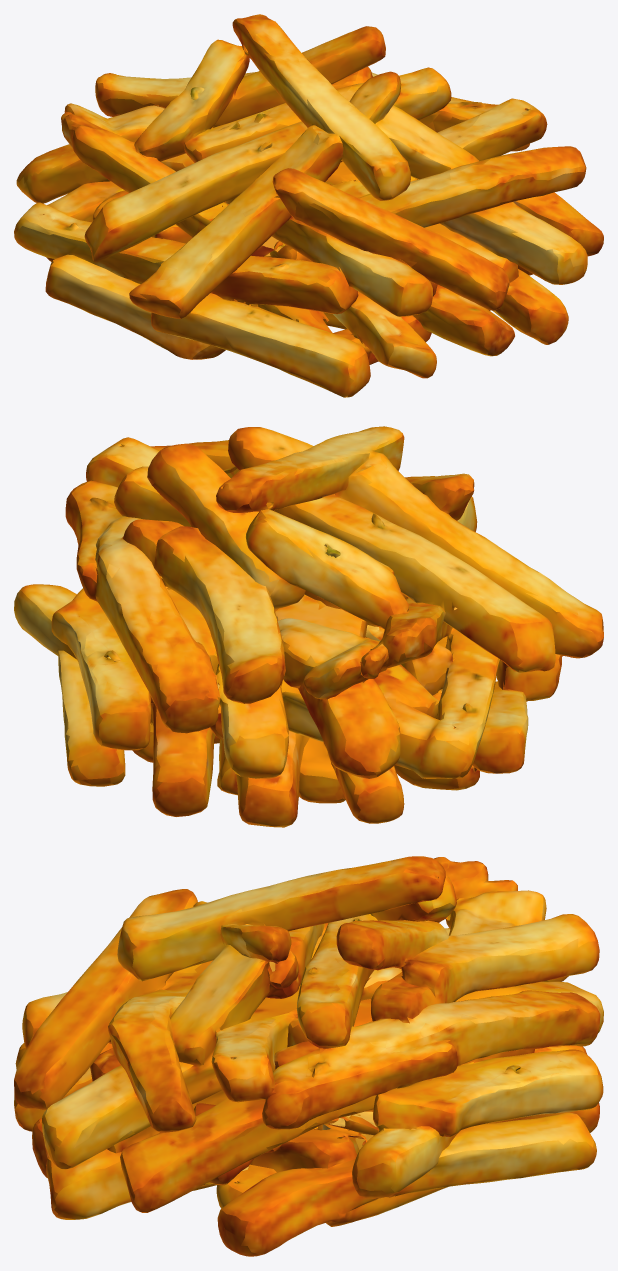
Rendered from rosemary-fries-0.glb.
3 views of the same model, one above another, from view 1: azimuth 30°, elevation 25°; view 2: azimuth 150°, elevation 25°; view 3: azimuth 270°, elevation 25° (orthographic). The views are drawn at different scales.
Visible parts, largest first — view 1: geometry_0; view 2: geometry_0; view 3: geometry_0.
Boxes of the visible parts, left/top/right/bottom form: geometry_0: left=14, top=14, right=603, bottom=397; geometry_0: left=14, top=426, right=603, bottom=827; geometry_0: left=14, top=856, right=603, bottom=1256.
Size of the model in its own units: 0.1 by 0.0533 by 0.0999.
1 material, 1 textured.
